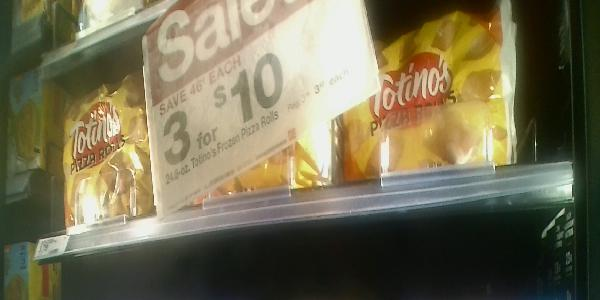icecream: (327, 10, 519, 178), (140, 58, 332, 190), (43, 80, 157, 221)
